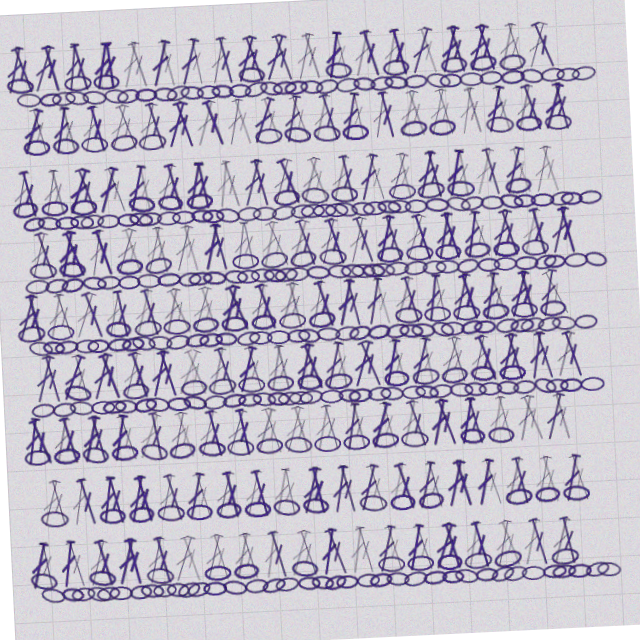chain: (133, 433, 163, 455), (481, 557, 511, 578), (60, 371, 89, 392), (17, 557, 46, 578), (292, 124, 321, 144), (147, 248, 176, 268), (263, 248, 292, 268), (292, 248, 321, 268), (75, 434, 104, 454), (162, 434, 191, 454), (176, 76, 203, 97), (254, 76, 281, 97), (477, 572, 504, 593), (481, 62, 510, 81), (133, 186, 162, 205), (307, 186, 336, 205), (423, 186, 452, 205), (205, 372, 234, 391), (278, 434, 307, 453), (263, 496, 292, 515), (350, 496, 379, 515), (529, 386, 555, 407), (338, 201, 365, 221), (119, 124, 147, 143), (409, 124, 437, 143), (511, 186, 539, 205), (308, 310, 336, 329), (438, 372, 466, 391), (293, 496, 321, 515), (76, 558, 104, 577), (279, 558, 307, 577), (147, 125, 176, 143), (17, 311, 46, 329), (321, 373, 350, 391), (31, 497, 60, 515), (452, 559, 481, 577), (539, 559, 568, 577), (451, 201, 477, 221), (535, 263, 561, 283), (429, 325, 455, 345), (73, 573, 99, 593), (163, 573, 189, 593), (248, 573, 274, 593), (310, 573, 336, 593), (18, 186, 45, 205), (409, 496, 436, 515), (18, 63, 46, 81), (250, 63, 278, 81), (511, 63, 539, 81), (61, 125, 89, 143), (322, 125, 350, 143), (279, 187, 307, 205), (467, 249, 495, 267), (134, 311, 162, 329), (482, 311, 510, 329), (119, 373, 147, 391), (496, 497, 524, 515), (134, 559, 162, 577), (75, 77, 101, 96), (437, 77, 463, 96), (504, 201, 530, 220), (130, 325, 156, 344), (178, 387, 204, 406), (27, 573, 53, 592), (490, 573, 516, 592), (572, 573, 598, 592), (495, 125, 524, 142), (163, 187, 190, 205), (337, 63, 365, 80), (453, 187, 481, 204), (32, 249, 60, 266), (61, 249, 89, 266), (322, 249, 350, 266), (192, 311, 220, 328), (395, 311, 423, 328), (177, 373, 205, 390), (409, 373, 437, 390), (192, 435, 220, 452), (395, 435, 423, 452), (148, 497, 176, 514), (270, 77, 295, 96), (27, 201, 52, 220), (586, 263, 611, 282), (347, 325, 372, 344), (459, 325, 484, 344), (220, 202, 246, 220), (276, 202, 302, 220), (465, 202, 491, 220), (46, 264, 72, 282), (27, 326, 53, 344), (164, 326, 190, 344), (235, 326, 261, 344), (519, 326, 545, 344), (536, 326, 562, 344), (410, 388, 436, 406), (173, 574, 199, 592), (209, 574, 235, 592), (390, 574, 416, 592), (441, 574, 467, 592), (395, 63, 422, 80), (453, 63, 480, 80), (438, 125, 465, 142), (192, 187, 219, 204), (337, 187, 364, 204), (119, 249, 146, 266), (105, 311, 132, 328), (279, 311, 306, 328), (540, 311, 567, 328), (235, 373, 262, 390), (264, 373, 291, 390), (467, 373, 494, 390), (47, 435, 74, 452), (105, 435, 132, 452), (221, 435, 248, 452), (250, 435, 277, 452), (366, 435, 393, 452), (482, 435, 509, 452), (119, 497, 146, 514), (554, 497, 581, 514), (221, 559, 248, 576), (366, 559, 393, 576), (127, 78, 152, 96), (326, 78, 351, 96), (62, 264, 87, 282), (458, 264, 483, 282), (296, 326, 321, 344), (76, 64, 104, 80), (264, 126, 292, 142), (409, 250, 437, 266), (163, 312, 191, 328), (453, 312, 481, 328), (133, 202, 159, 219), (251, 311, 277, 328), (384, 326, 410, 343), (494, 326, 520, 343), (294, 373, 320, 390), (454, 435, 480, 452), (207, 497, 233, 514), (526, 497, 552, 514), (105, 64, 132, 80), (32, 126, 59, 142), (90, 126, 117, 142), (351, 126, 378, 142), (525, 126, 552, 142), (554, 126, 581, 142), (47, 188, 74, 204), (76, 188, 103, 204), (395, 188, 422, 204), (235, 250, 262, 266), (380, 250, 407, 266), (438, 250, 465, 266), (496, 250, 523, 266), (525, 250, 552, 266), (47, 312, 74, 328), (221, 312, 248, 328), (424, 312, 451, 328), (511, 312, 538, 328), (496, 374, 523, 390), (18, 436, 45, 452), (308, 436, 335, 452), (337, 436, 364, 452), (90, 498, 117, 514), (177, 498, 204, 514), (235, 498, 262, 514), (192, 560, 219, 576), (395, 560, 422, 576), (115, 78, 140, 95), (295, 78, 320, 95), (347, 78, 372, 95), (381, 78, 406, 95), (395, 78, 420, 95), (531, 78, 556, 95), (583, 78, 608, 95), (42, 202, 67, 219), (85, 202, 110, 219), (382, 202, 407, 219), (555, 202, 580, 219), (84, 264, 109, 281), (406, 264, 431, 281), (184, 326, 209, 343), (334, 326, 359, 343), (366, 326, 391, 343), (65, 388, 90, 405), (129, 388, 154, 405), (141, 388, 166, 405), (218, 388, 243, 405), (248, 388, 273, 405), (295, 388, 320, 405), (127, 574, 152, 591), (262, 574, 287, 591), (381, 374, 407, 390), (381, 498, 407, 514), (425, 560, 451, 576), (364, 78, 388, 95), (460, 388, 484, 405), (48, 574, 72, 591), (298, 574, 322, 591), (356, 574, 380, 591), (93, 79, 118, 95), (164, 79, 189, 95), (191, 79, 216, 95), (143, 203, 168, 219), (356, 203, 381, 219), (27, 265, 52, 281), (190, 265, 215, 281), (204, 265, 229, 281), (226, 265, 251, 281), (276, 265, 301, 281), (287, 265, 312, 281), (353, 265, 378, 281), (373, 265, 398, 281), (53, 327, 78, 343), (106, 327, 131, 343), (147, 327, 172, 343), (398, 327, 423, 343), (410, 327, 435, 343), (509, 327, 534, 343), (551, 327, 576, 343), (27, 389, 52, 405), (48, 389, 73, 405), (98, 389, 123, 405), (199, 389, 224, 405), (344, 389, 369, 405), (376, 389, 401, 405), (425, 389, 450, 405), (83, 575, 108, 591), (410, 575, 435, 591), (539, 575, 564, 591), (584, 575, 609, 591), (50, 79, 74, 95), (222, 79, 246, 95), (311, 79, 335, 95), (180, 265, 204, 281), (265, 265, 289, 281), (364, 265, 388, 281), (41, 327, 65, 343), (120, 327, 144, 343), (110, 389, 134, 405), (334, 389, 358, 405), (509, 389, 533, 405), (116, 575, 140, 591), (415, 79, 440, 94), (512, 79, 537, 94), (552, 79, 577, 94), (242, 203, 267, 218), (430, 203, 455, 218), (308, 265, 333, 280), (387, 265, 412, 280), (58, 575, 83, 590), (28, 79, 52, 94), (63, 79, 87, 94), (284, 79, 308, 94), (75, 203, 99, 218), (296, 203, 320, 218), (306, 203, 330, 218), (393, 203, 417, 218), (584, 203, 608, 218), (99, 265, 123, 280), (139, 265, 163, 280), (159, 265, 183, 280), (253, 265, 277, 280), (330, 265, 354, 280), (343, 265, 367, 280), (567, 265, 591, 280), (198, 327, 222, 342), (316, 327, 340, 342), (234, 389, 258, 404), (263, 389, 287, 404), (364, 389, 388, 404), (446, 389, 470, 404), (140, 575, 164, 590), (153, 575, 177, 590), (232, 575, 256, 590), (373, 575, 397, 590), (530, 575, 554, 590), (491, 79, 514, 94), (196, 203, 219, 218), (214, 327, 237, 342), (574, 327, 597, 342), (493, 389, 516, 404), (285, 575, 308, 590), (344, 575, 367, 590), (463, 575, 486, 590), (208, 80, 232, 94), (471, 80, 495, 94), (568, 80, 592, 94), (60, 204, 84, 218), (162, 204, 186, 218), (177, 204, 201, 218), (258, 204, 282, 218), (318, 204, 342, 218), (330, 204, 354, 218), (368, 204, 392, 218), (486, 204, 510, 218), (536, 204, 560, 218), (425, 266, 449, 280), (438, 266, 462, 280), (496, 266, 520, 280), (517, 266, 541, 280), (74, 328, 98, 342), (248, 328, 272, 342), (266, 328, 290, 342), (286, 328, 310, 342), (440, 328, 464, 342), (87, 390, 111, 404), (163, 390, 187, 404), (274, 390, 298, 404), (285, 390, 309, 404), (316, 390, 340, 404), (398, 390, 422, 404), (475, 390, 499, 404), (577, 390, 601, 404), (96, 576, 120, 590), (190, 576, 214, 590), (509, 576, 533, 590), (555, 576, 579, 590), (146, 80, 169, 94), (240, 80, 263, 94), (451, 80, 474, 94), (102, 204, 125, 218), (122, 204, 145, 218), (207, 204, 230, 218), (410, 204, 433, 218), (519, 204, 542, 218), (566, 204, 589, 218), (120, 266, 143, 280), (239, 266, 262, 280), (480, 266, 503, 280), (546, 266, 569, 280), (86, 328, 109, 342), (473, 328, 496, 342), (542, 390, 565, 404), (556, 390, 579, 404), (323, 576, 346, 590), (429, 576, 452, 590)
double: (540, 279, 575, 329), (170, 341, 203, 391), (266, 217, 298, 267), (165, 279, 197, 329), (223, 279, 255, 329), (55, 341, 87, 391), (20, 403, 52, 453), (128, 403, 160, 453), (41, 31, 72, 81), (273, 31, 304, 81), (542, 31, 573, 81), (258, 93, 289, 143), (70, 155, 101, 205), (281, 155, 312, 205), (63, 217, 94, 267), (403, 217, 434, 267), (70, 279, 101, 329), (179, 341, 210, 391), (353, 341, 384, 391), (215, 403, 246, 453), (513, 403, 544, 453), (157, 527, 188, 577), (418, 527, 449, 577), (21, 31, 51, 81), (419, 31, 449, 81), (535, 31, 565, 81), (27, 93, 57, 143), (122, 93, 152, 143), (172, 93, 202, 143), (209, 93, 239, 143), (79, 155, 109, 205), (108, 155, 138, 205), (311, 155, 341, 205), (390, 155, 420, 205), (514, 155, 544, 205), (114, 217, 144, 267), (288, 217, 318, 267), (470, 217, 500, 267), (79, 279, 109, 329), (187, 279, 217, 329), (274, 279, 304, 329), (485, 279, 515, 329), (93, 341, 123, 391), (296, 341, 326, 391), (346, 341, 376, 391), (433, 341, 463, 391), (470, 341, 500, 391), (245, 403, 275, 453), (427, 403, 457, 453), (274, 527, 304, 577), (311, 527, 341, 577), (485, 527, 515, 577), (245, 31, 274, 81), (253, 31, 282, 81), (282, 31, 311, 81), (477, 31, 506, 81), (114, 93, 143, 143), (180, 93, 209, 143), (201, 93, 230, 143), (296, 93, 325, 143), (404, 93, 433, 143), (528, 93, 557, 143), (549, 93, 578, 143), (100, 155, 129, 205), (158, 155, 187, 205), (245, 155, 274, 205), (274, 155, 303, 205), (303, 155, 332, 205), (477, 155, 506, 205), (35, 217, 64, 267), (93, 217, 122, 267), (296, 217, 325, 267), (354, 217, 383, 267), (491, 217, 520, 267), (13, 279, 42, 329), (253, 279, 282, 329), (390, 279, 419, 329), (506, 279, 535, 329), (85, 341, 114, 391), (209, 341, 238, 391), (549, 341, 578, 391), (557, 341, 586, 391), (108, 403, 137, 453), (166, 403, 195, 453), (253, 403, 282, 453), (274, 403, 303, 453), (361, 403, 390, 453), (398, 403, 427, 453), (346, 465, 375, 515), (383, 465, 412, 515), (166, 527, 195, 577), (138, 31, 166, 81), (159, 31, 187, 81), (188, 31, 216, 81), (370, 31, 398, 81), (428, 31, 456, 81), (449, 31, 477, 81), (486, 31, 514, 81), (152, 93, 180, 143), (239, 93, 267, 143), (268, 93, 296, 143), (326, 93, 354, 143), (413, 93, 441, 143), (434, 93, 462, 143), (225, 155, 253, 205), (333, 155, 361, 205), (507, 155, 535, 205), (544, 155, 572, 205), (28, 217, 56, 267), (123, 217, 151, 267), (173, 217, 201, 267), (318, 217, 346, 267), (326, 217, 354, 267), (347, 217, 375, 267), (384, 217, 412, 267), (413, 217, 441, 267), (442, 217, 470, 267), (500, 217, 528, 267), (521, 217, 549, 267), (550, 217, 578, 267), (51, 279, 79, 329), (130, 279, 158, 329), (196, 279, 224, 329), (217, 279, 245, 329), (312, 279, 340, 329), (457, 279, 485, 329), (28, 341, 56, 391), (115, 341, 143, 391), (123, 341, 151, 391), (152, 341, 180, 391), (231, 341, 259, 391), (405, 341, 433, 391), (492, 341, 520, 391), (529, 341, 557, 391), (188, 403, 216, 453), (536, 403, 564, 453), (28, 465, 56, 515), (65, 465, 93, 515), (152, 465, 180, 515), (181, 465, 209, 515), (202, 465, 230, 515), (289, 465, 317, 515), (471, 465, 499, 515), (492, 465, 520, 515), (529, 465, 557, 515), (558, 465, 586, 515), (51, 527, 79, 577), (72, 527, 100, 577), (101, 527, 129, 577), (188, 527, 216, 577), (283, 527, 311, 577), (399, 527, 427, 577), (536, 527, 564, 577), (14, 31, 41, 81), (51, 31, 78, 81), (80, 31, 107, 81), (130, 31, 157, 81), (304, 31, 331, 81), (312, 31, 339, 81), (362, 31, 389, 81), (457, 31, 484, 81), (507, 31, 534, 81), (515, 31, 542, 81), (36, 93, 63, 143), (94, 93, 121, 143), (144, 93, 171, 143), (318, 93, 345, 143), (442, 93, 469, 143), (471, 93, 498, 143), (492, 93, 519, 143), (500, 93, 527, 143), (521, 93, 548, 143), (130, 155, 157, 205), (362, 155, 389, 205), (370, 155, 397, 205), (420, 155, 447, 205), (486, 155, 513, 205), (536, 155, 563, 205), (144, 217, 171, 267), (202, 217, 229, 267), (260, 217, 287, 267), (376, 217, 403, 267), (138, 279, 165, 329), (246, 279, 273, 329), (333, 279, 360, 329), (399, 279, 426, 329), (449, 279, 476, 329), (144, 341, 171, 391), (202, 341, 229, 391), (239, 341, 266, 391), (289, 341, 316, 391), (318, 341, 345, 391), (384, 341, 411, 391), (463, 341, 490, 391), (500, 341, 527, 391), (51, 403, 78, 453), (72, 403, 99, 453), (80, 403, 107, 453), (283, 403, 310, 453), (391, 403, 418, 453), (457, 403, 484, 453), (123, 465, 150, 515), (231, 465, 258, 515), (355, 465, 382, 515), (376, 465, 403, 515), (405, 465, 432, 515), (434, 465, 461, 515), (442, 465, 469, 515), (14, 527, 41, 577), (80, 527, 107, 577), (196, 527, 223, 577), (225, 527, 252, 577), (254, 527, 281, 577), (341, 527, 368, 577), (362, 527, 389, 577), (370, 527, 397, 577), (428, 527, 455, 577), (457, 527, 484, 577), (507, 527, 534, 577), (515, 527, 542, 577), (168, 31, 194, 81), (218, 31, 244, 81), (400, 31, 426, 81), (66, 93, 92, 143), (559, 93, 585, 143), (23, 155, 49, 205), (52, 155, 78, 205), (168, 155, 194, 205), (255, 155, 281, 205), (429, 155, 455, 205), (58, 217, 84, 267), (182, 217, 208, 267), (211, 217, 237, 267), (435, 217, 461, 267), (530, 217, 556, 267), (559, 217, 585, 267), (160, 279, 186, 329), (305, 279, 331, 329), (371, 279, 397, 329), (37, 341, 63, 391), (66, 341, 92, 391), (377, 341, 403, 391), (443, 341, 469, 391), (160, 403, 186, 453), (197, 403, 223, 453), (305, 403, 331, 453), (313, 403, 339, 453), (371, 403, 397, 453), (421, 403, 447, 453), (479, 403, 505, 453), (487, 403, 513, 453), (508, 403, 534, 453), (545, 403, 571, 453), (37, 465, 63, 515), (95, 465, 121, 515), (116, 465, 142, 515), (145, 465, 171, 515), (174, 465, 200, 515), (240, 465, 266, 515), (327, 465, 353, 515), (414, 465, 440, 515), (464, 465, 490, 515), (522, 465, 548, 515), (551, 465, 577, 515), (110, 527, 136, 577), (131, 527, 157, 577), (139, 527, 165, 577), (218, 527, 244, 577), (479, 527, 505, 577), (226, 31, 251, 81), (342, 31, 367, 81), (392, 31, 417, 81), (87, 93, 112, 143), (232, 93, 257, 143), (290, 93, 315, 143), (348, 93, 373, 143), (385, 93, 410, 143), (15, 155, 40, 205), (189, 155, 214, 205), (400, 155, 425, 205), (450, 155, 475, 205), (153, 217, 178, 267), (23, 279, 48, 329), (44, 279, 69, 329), (102, 279, 127, 329), (284, 279, 309, 329), (342, 279, 367, 329), (363, 279, 388, 329), (479, 279, 504, 329), (516, 279, 541, 329), (537, 279, 562, 329), (269, 341, 294, 391), (44, 403, 69, 453), (102, 403, 127, 453), (342, 403, 367, 453), (450, 403, 475, 453), (211, 465, 236, 515), (261, 465, 286, 515), (298, 465, 323, 515), (501, 465, 526, 515), (392, 527, 417, 577), (450, 527, 475, 577), (103, 31, 127, 81), (335, 31, 359, 81), (59, 93, 83, 143), (378, 93, 402, 143), (465, 93, 489, 143), (45, 155, 69, 205), (140, 155, 164, 205), (198, 155, 222, 205), (343, 155, 367, 205), (88, 217, 112, 267), (111, 279, 135, 329), (262, 341, 286, 391), (328, 341, 352, 391), (523, 341, 547, 391), (227, 403, 251, 453), (335, 403, 359, 453), (320, 465, 344, 515), (248, 527, 272, 577), (306, 527, 330, 577), (546, 527, 570, 577), (465, 217, 488, 267), (59, 465, 82, 515), (198, 31, 221, 80), (357, 93, 380, 142), (233, 217, 256, 266), (241, 217, 264, 266), (430, 279, 453, 328), (415, 341, 438, 390), (16, 403, 39, 452), (140, 403, 163, 452), (88, 465, 111, 514), (270, 465, 293, 514), (24, 527, 47, 576), (335, 527, 358, 576), (220, 155, 242, 204), (460, 155, 482, 204), (423, 279, 445, 328), (46, 527, 68, 576), (75, 31, 96, 80), (113, 31, 133, 80)
